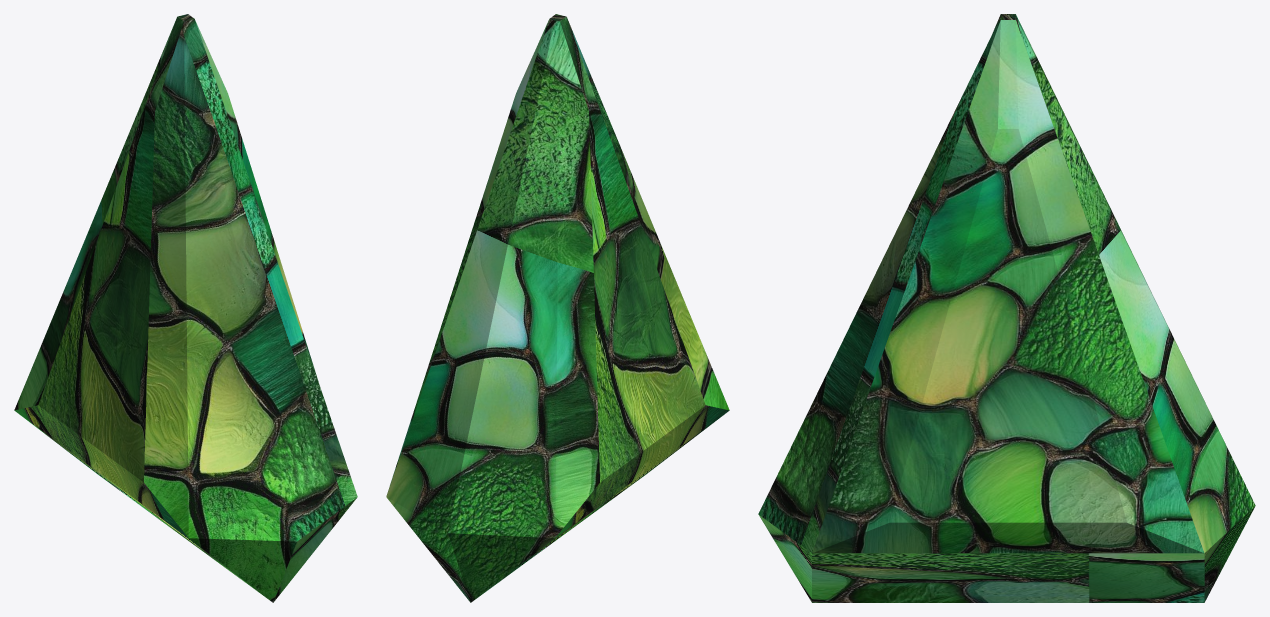
The model's file is gemstone4GreenCompressed.glb.
3 renders of one model, left to right at view 1: azimuth 30°, elevation 25°; view 2: azimuth 150°, elevation 25°; view 3: azimuth 270°, elevation 25°, orthographic. The views are drawn at different scales.
Visible parts, largest first — view 1: gemstone3; view 2: gemstone3; view 3: gemstone3.
Boxes of the visible parts, x1,y1,x2,y2 form: gemstone3: (14,14,357,602); gemstone3: (386,14,729,602); gemstone3: (758,14,1255,602).
Bounding box in the file's own units: 0.5 × 1.3 × 1.
1 material, 1 textured.
